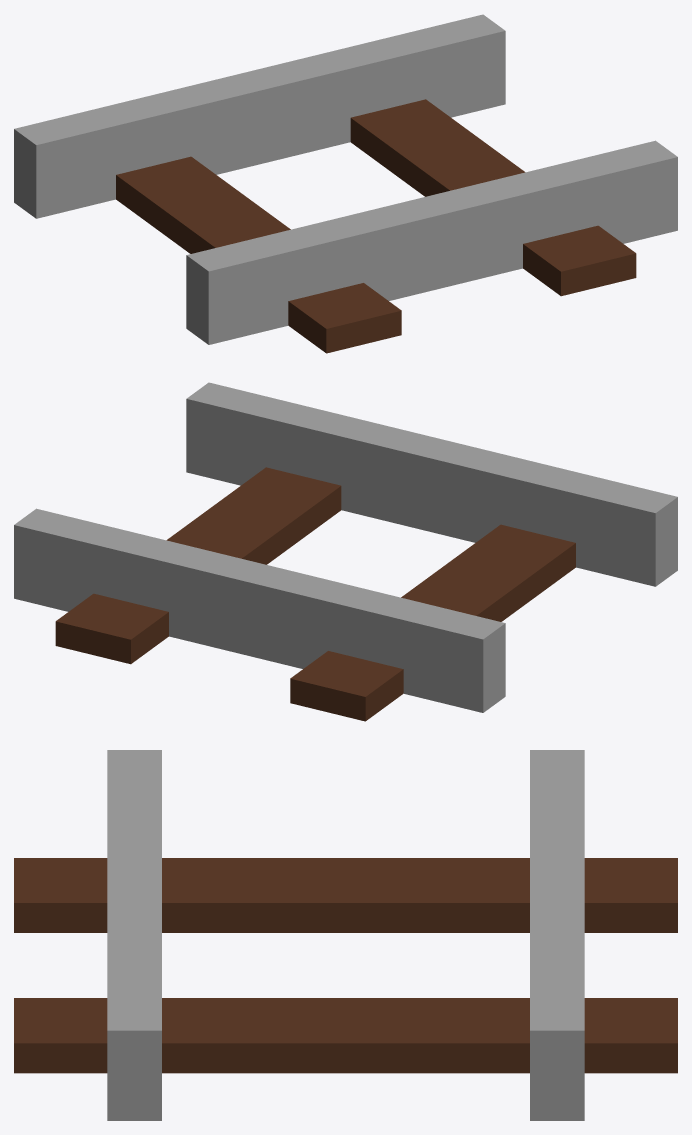
Rendered from Track.fbx.
3 renders of one model, top to bottom at view 1: azimuth 30°, elevation 25°; view 2: azimuth 150°, elevation 25°; view 3: azimuth 270°, elevation 25°, orthographic. The views are drawn at different scales.
Visible parts, largest first — view 1: Track; view 2: Track; view 3: Track.
Boxes of the visible parts, <box> form: Track: <box>14,14,677,353</box>; Track: <box>14,382,677,721</box>; Track: <box>14,750,677,1120</box>.
Size of the model in its own units: 100 by 15 by 100.
